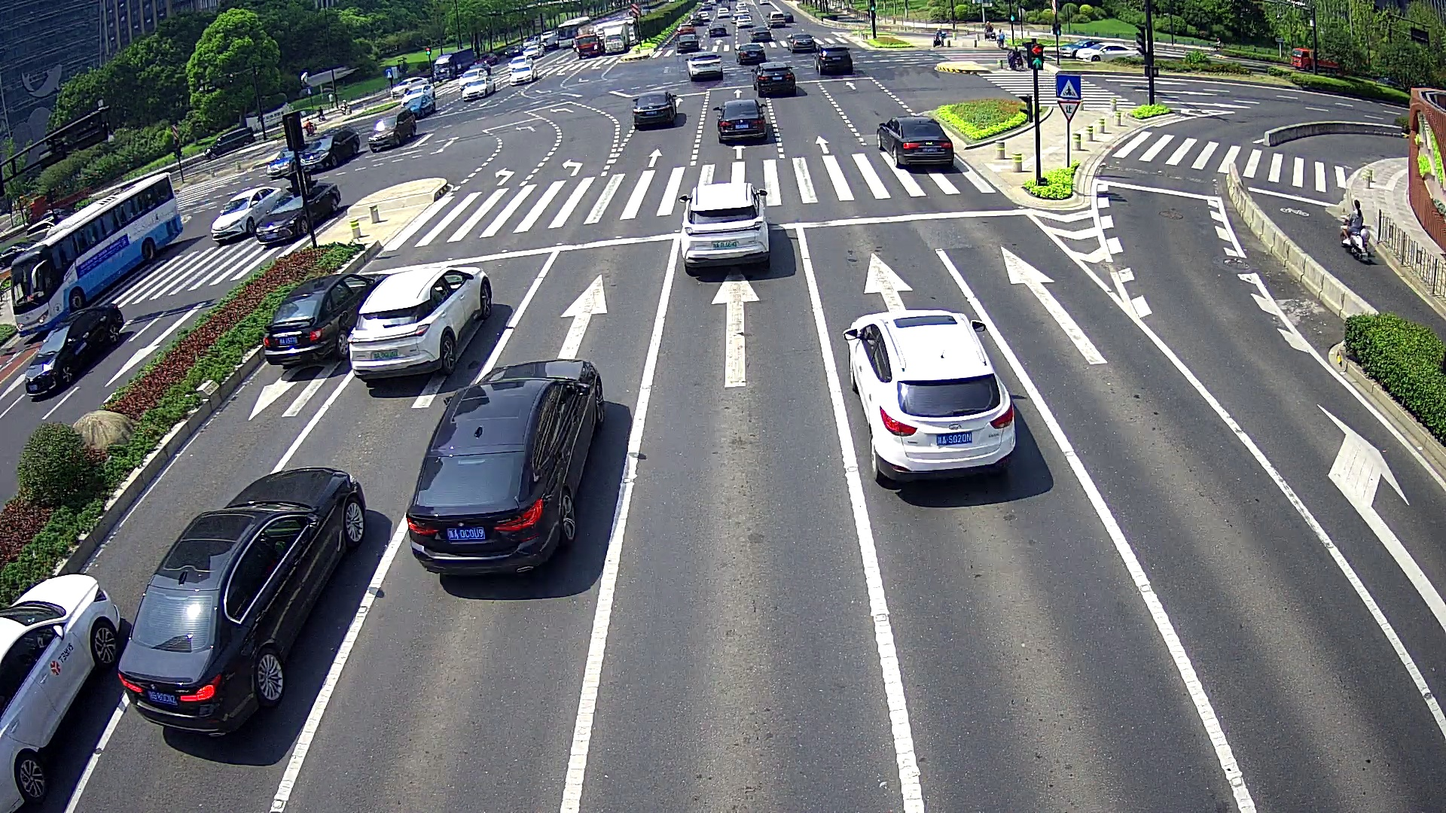person: (1350, 199, 1362, 235)
vehicle: (115, 464, 371, 738), (403, 354, 606, 581), (839, 303, 1020, 489), (5, 168, 186, 335), (0, 569, 121, 811), (346, 260, 492, 380), (260, 271, 380, 364), (20, 301, 126, 397), (671, 178, 772, 276), (254, 178, 345, 244), (872, 111, 955, 172), (207, 181, 279, 241), (295, 123, 362, 174), (711, 96, 772, 147), (365, 108, 414, 151), (629, 90, 678, 130), (1335, 213, 1375, 260), (749, 60, 797, 95), (810, 40, 853, 78), (684, 48, 721, 80)
